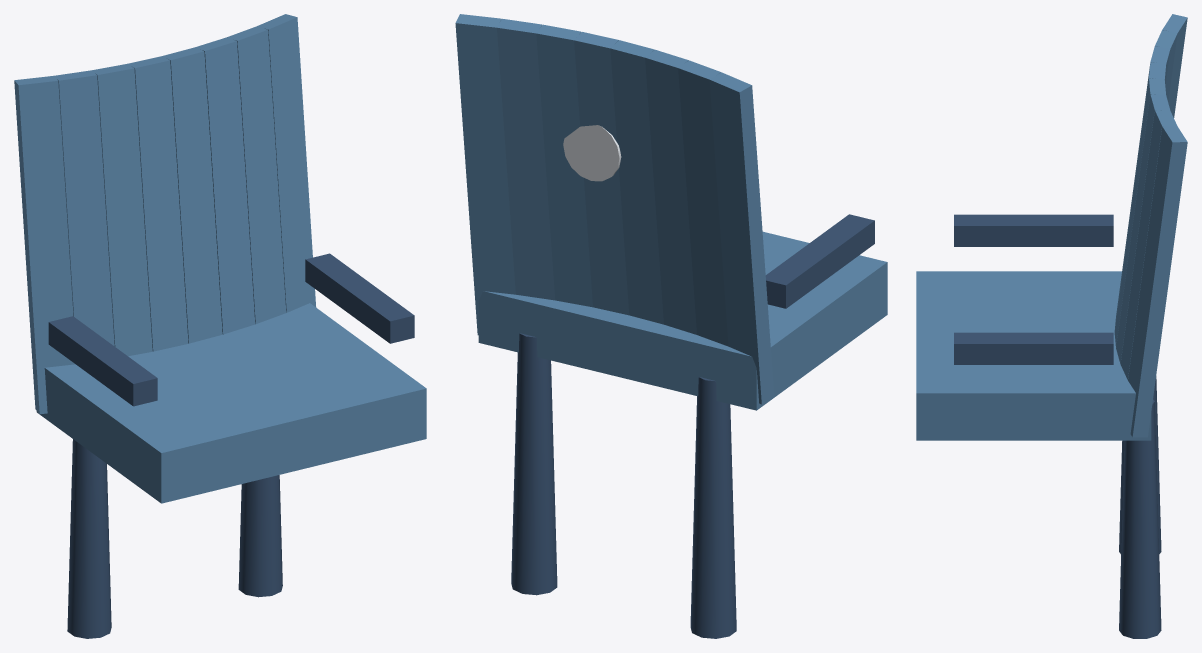
Rendered from seat_lod1.glb.
3 views of the same model, side by side, from view 1: azimuth 30°, elevation 25°; view 2: azimuth 150°, elevation 25°; view 3: azimuth 270°, elevation 25° (orthographic). The views are drawn at different scales.
Parts seen in each view (by area): view 1: Seat_LOD1_Shell, Seat_LOD1_Frame; view 2: Seat_LOD1_Shell, Seat_LOD1_Frame, Seat_LOD1_Hardware; view 3: Seat_LOD1_Shell, Seat_LOD1_Frame.
Part boxes in pixels (box(x1,y1,x2,y2)): Seat_LOD1_Shell: box(14, 14, 426, 503); Seat_LOD1_Frame: box(48, 253, 414, 638); Seat_LOD1_Shell: box(455, 14, 887, 410); Seat_LOD1_Frame: box(511, 214, 874, 638); Seat_LOD1_Hardware: box(563, 125, 621, 181); Seat_LOD1_Shell: box(916, 14, 1187, 440); Seat_LOD1_Frame: box(954, 214, 1161, 638).
Size of the model in its own units: 0.46 by 0.8515 by 0.4084.
